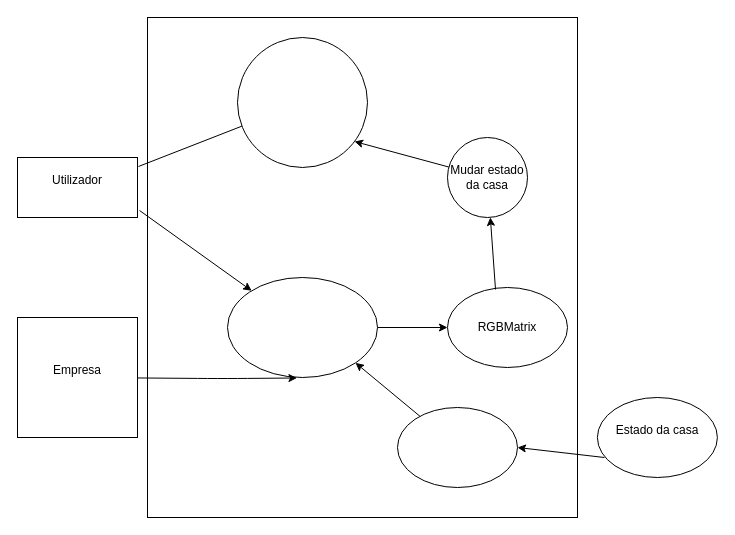
This 735x535 diagram has some shape labels left out. The shapes that lost their labels are listed below. From the top down, each one's centre as x and y in pixels, then its label:
At point (302, 102): "Conforto e Eficiência Energética".
At point (302, 327): "Regras da casa".
At point (457, 447): "MSGCreator".
